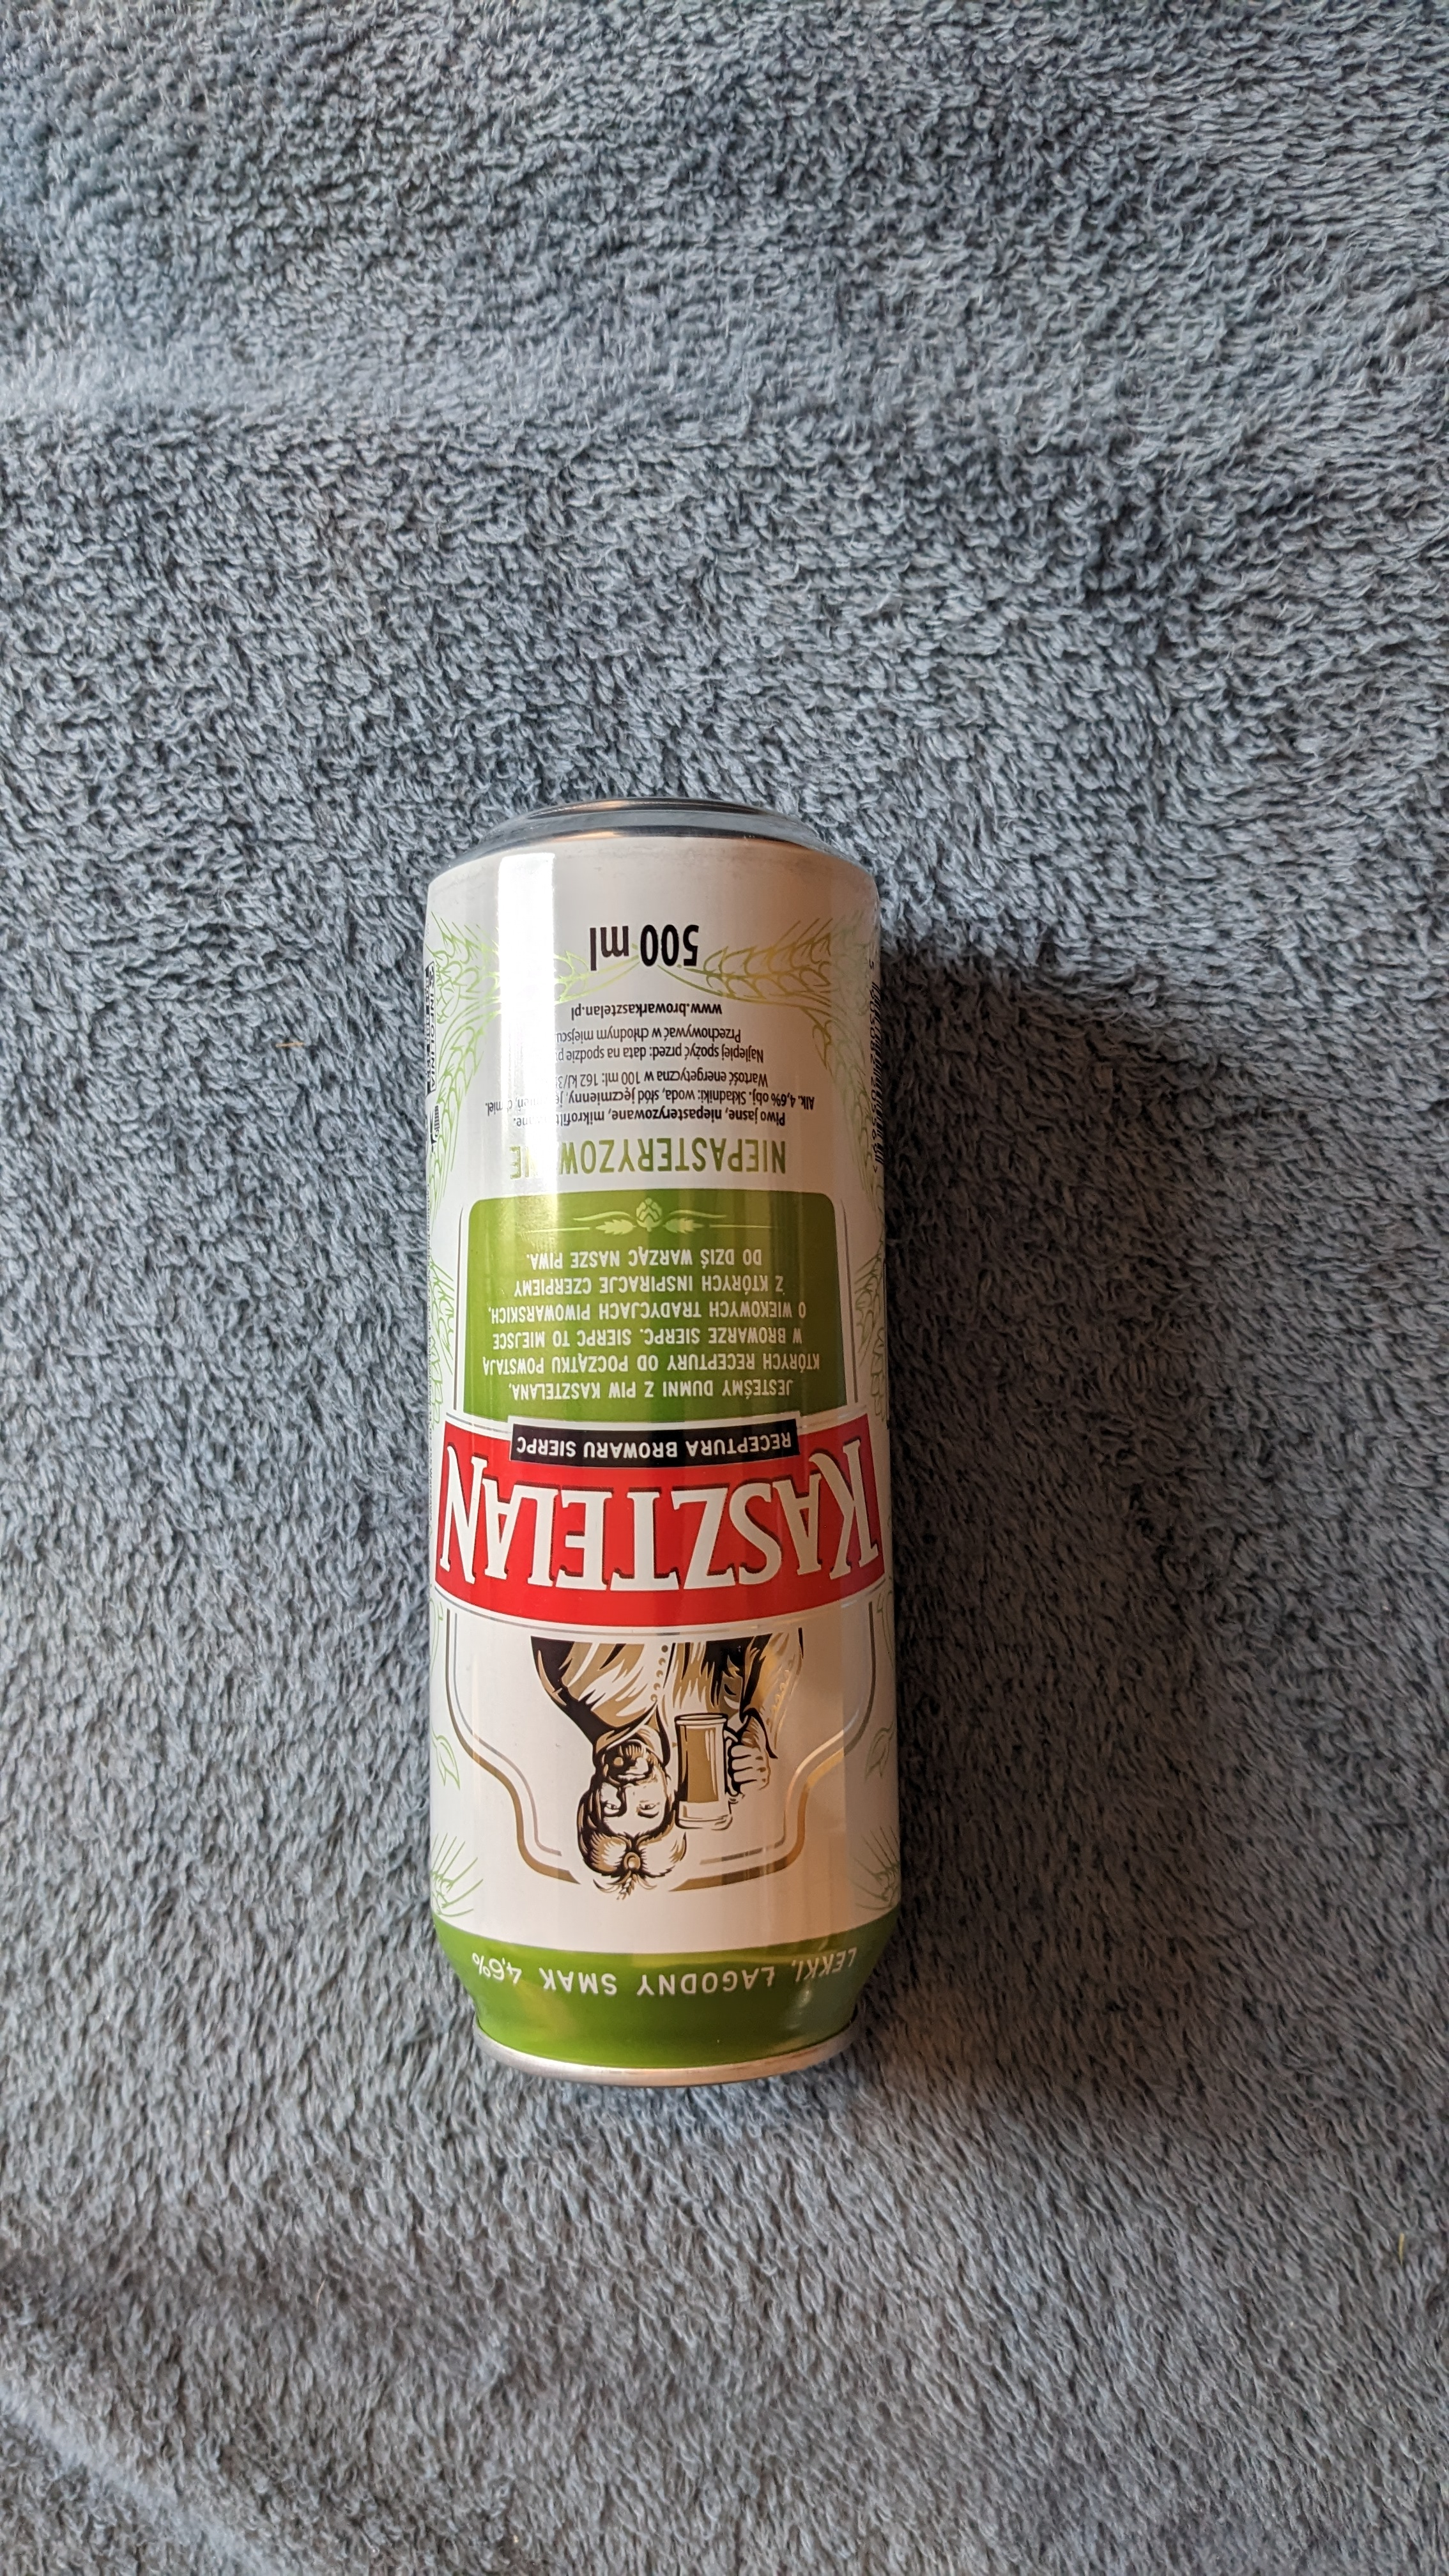kasztelan: (425, 816, 922, 2127)
